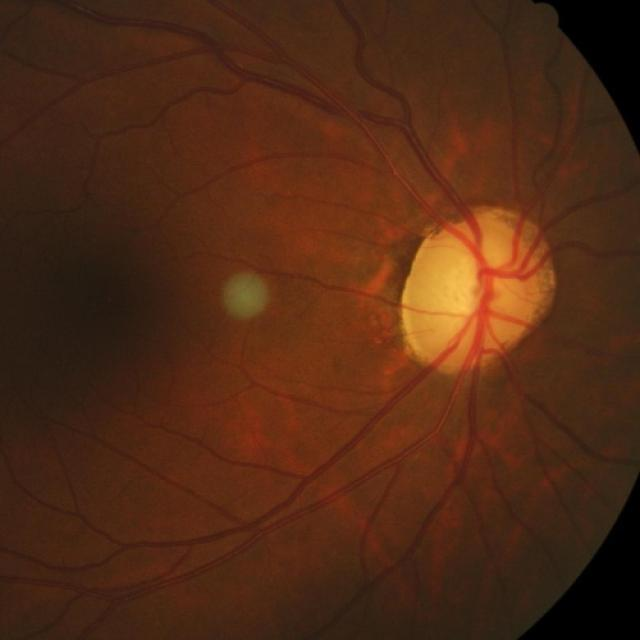OC: (446, 243, 518, 316)
OD: (404, 217, 548, 369)
